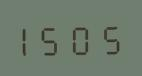five: (44, 20, 69, 56), (96, 19, 121, 55)
one: (18, 20, 43, 56)
zero: (70, 20, 95, 55)
